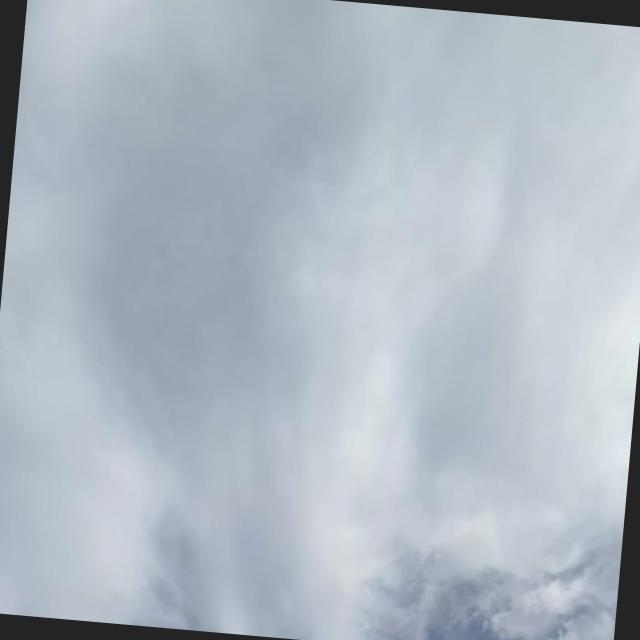nimbostratus: (0, 0, 624, 569)
